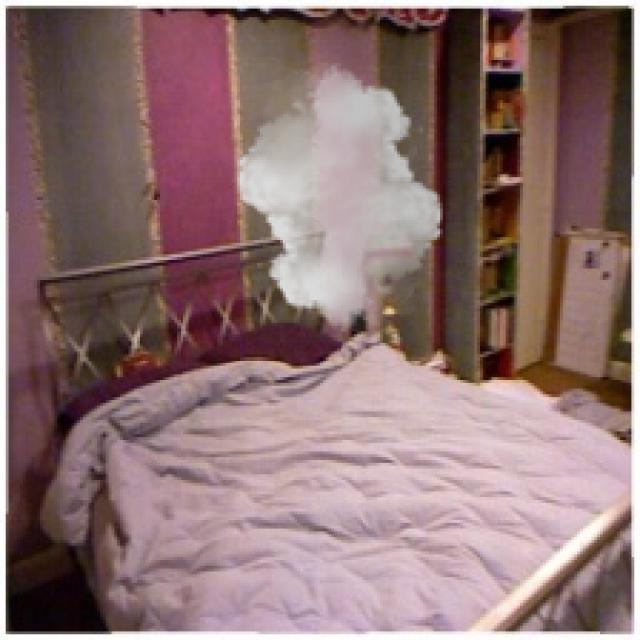Smoke: (228, 62, 452, 332)
